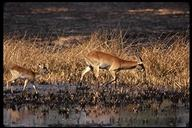antelope: (78, 50, 147, 83), (5, 61, 50, 89)
bush: (149, 42, 188, 90), (5, 41, 77, 61)
water: (5, 13, 189, 37)
